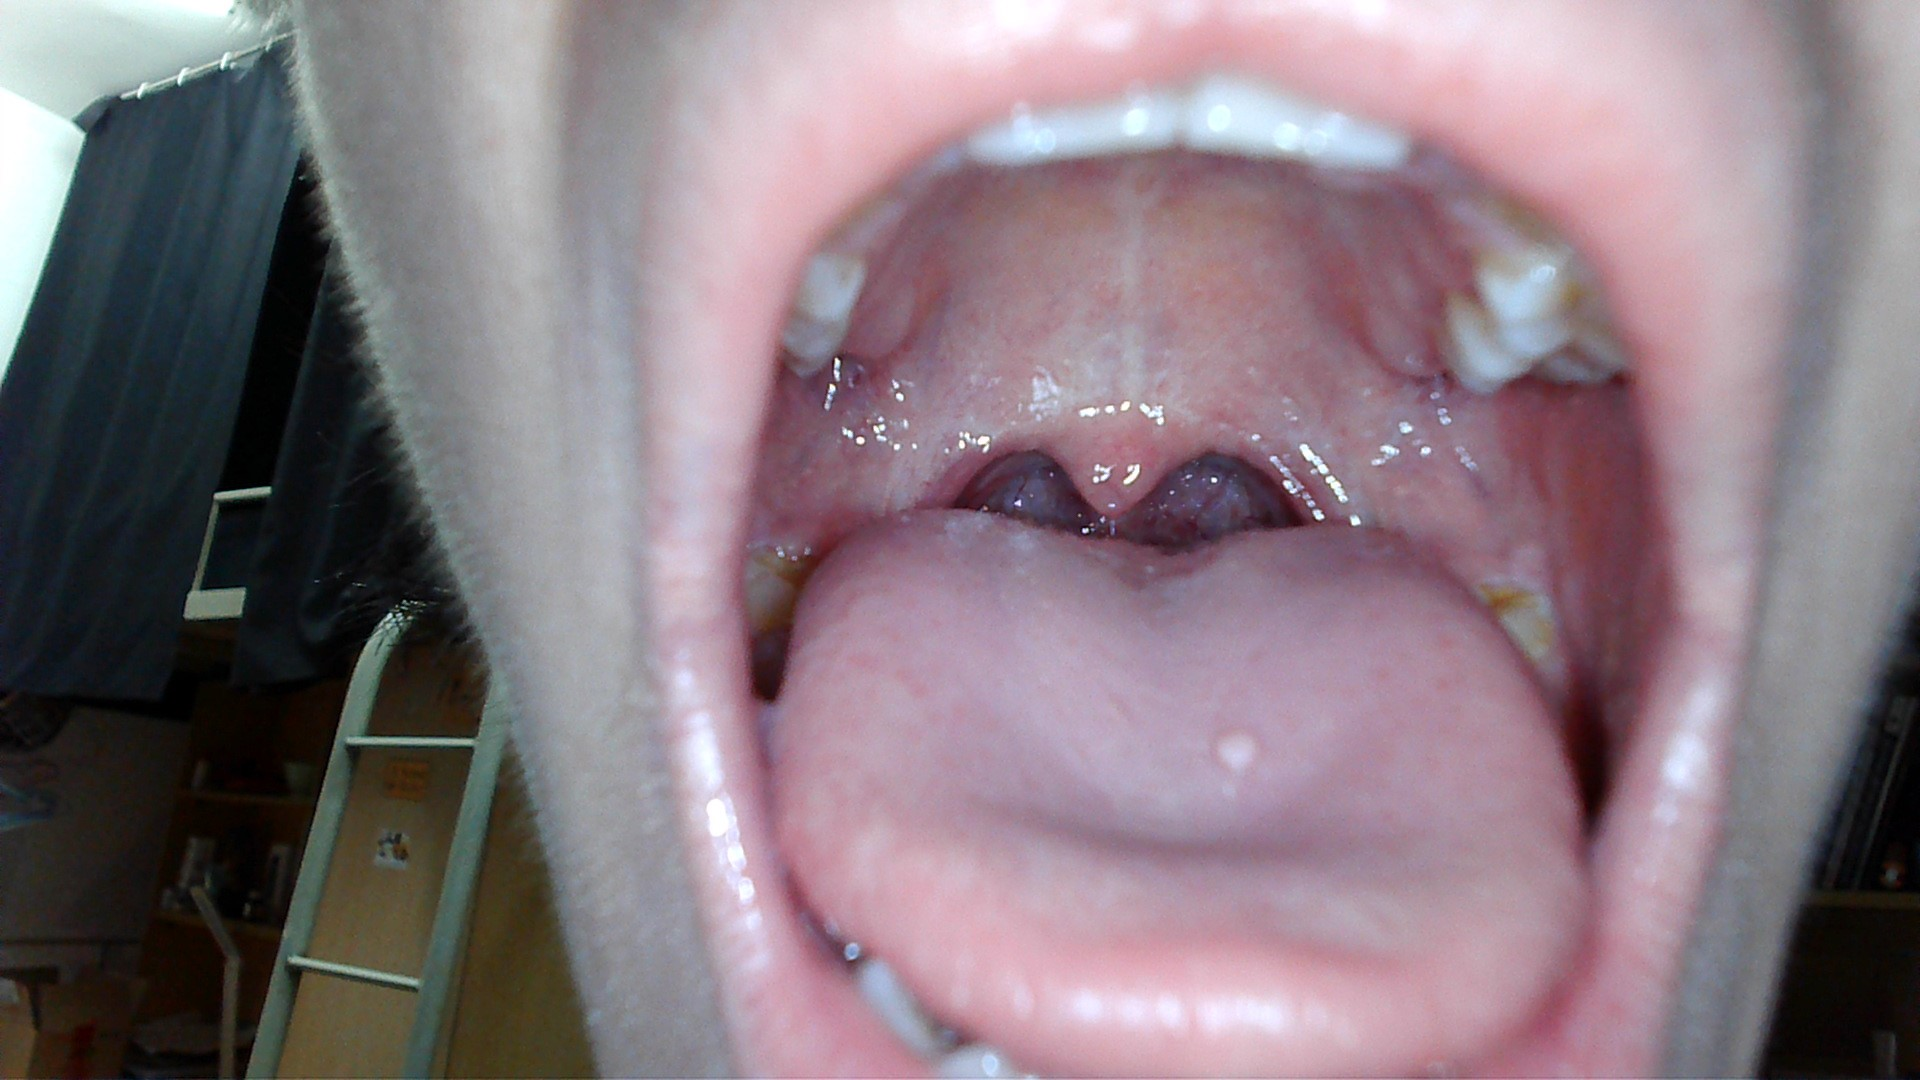throat: (1250, 419, 1342, 527), (918, 415, 1010, 508)
